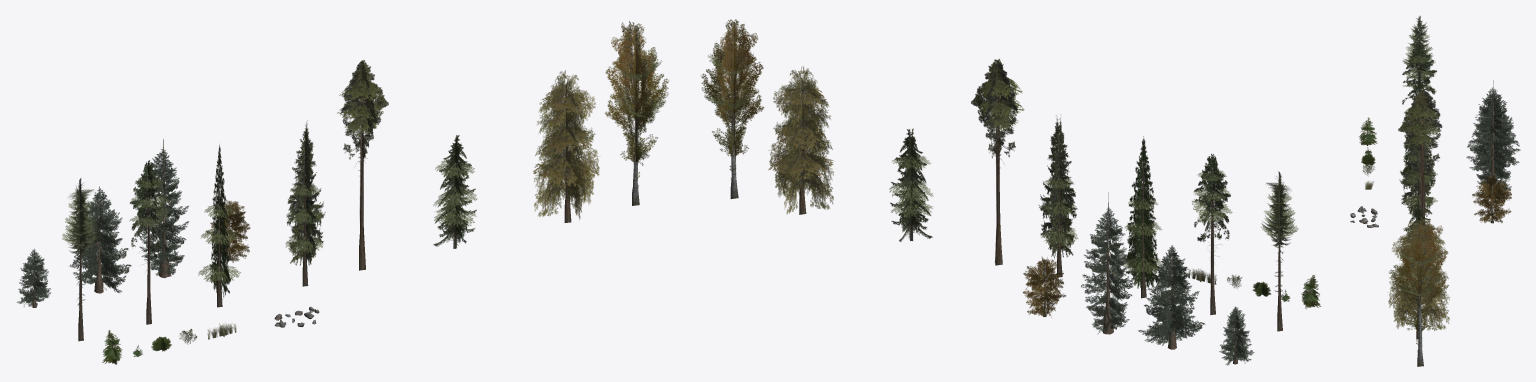
The model's file is trees.glb.
3 views of the same model, side by side, from view 1: azimuth 30°, elevation 25°; view 2: azimuth 150°, elevation 25°; view 3: azimuth 270°, elevation 25° (orthographic). The views are drawn at different scales.
Parts seen in each view (by area): view 1: RPG_TreePack; view 2: RPG_TreePack; view 3: RPG_TreePack.
Part boxes in pixels (bbox=[...]): RPG_TreePack: bbox=[17, 21, 668, 364]; RPG_TreePack: bbox=[701, 19, 1320, 365]; RPG_TreePack: bbox=[1350, 16, 1520, 366].
Size of the model in its own units: 5 by 1.64 by 1.5.
6 materials, 6 textured.
